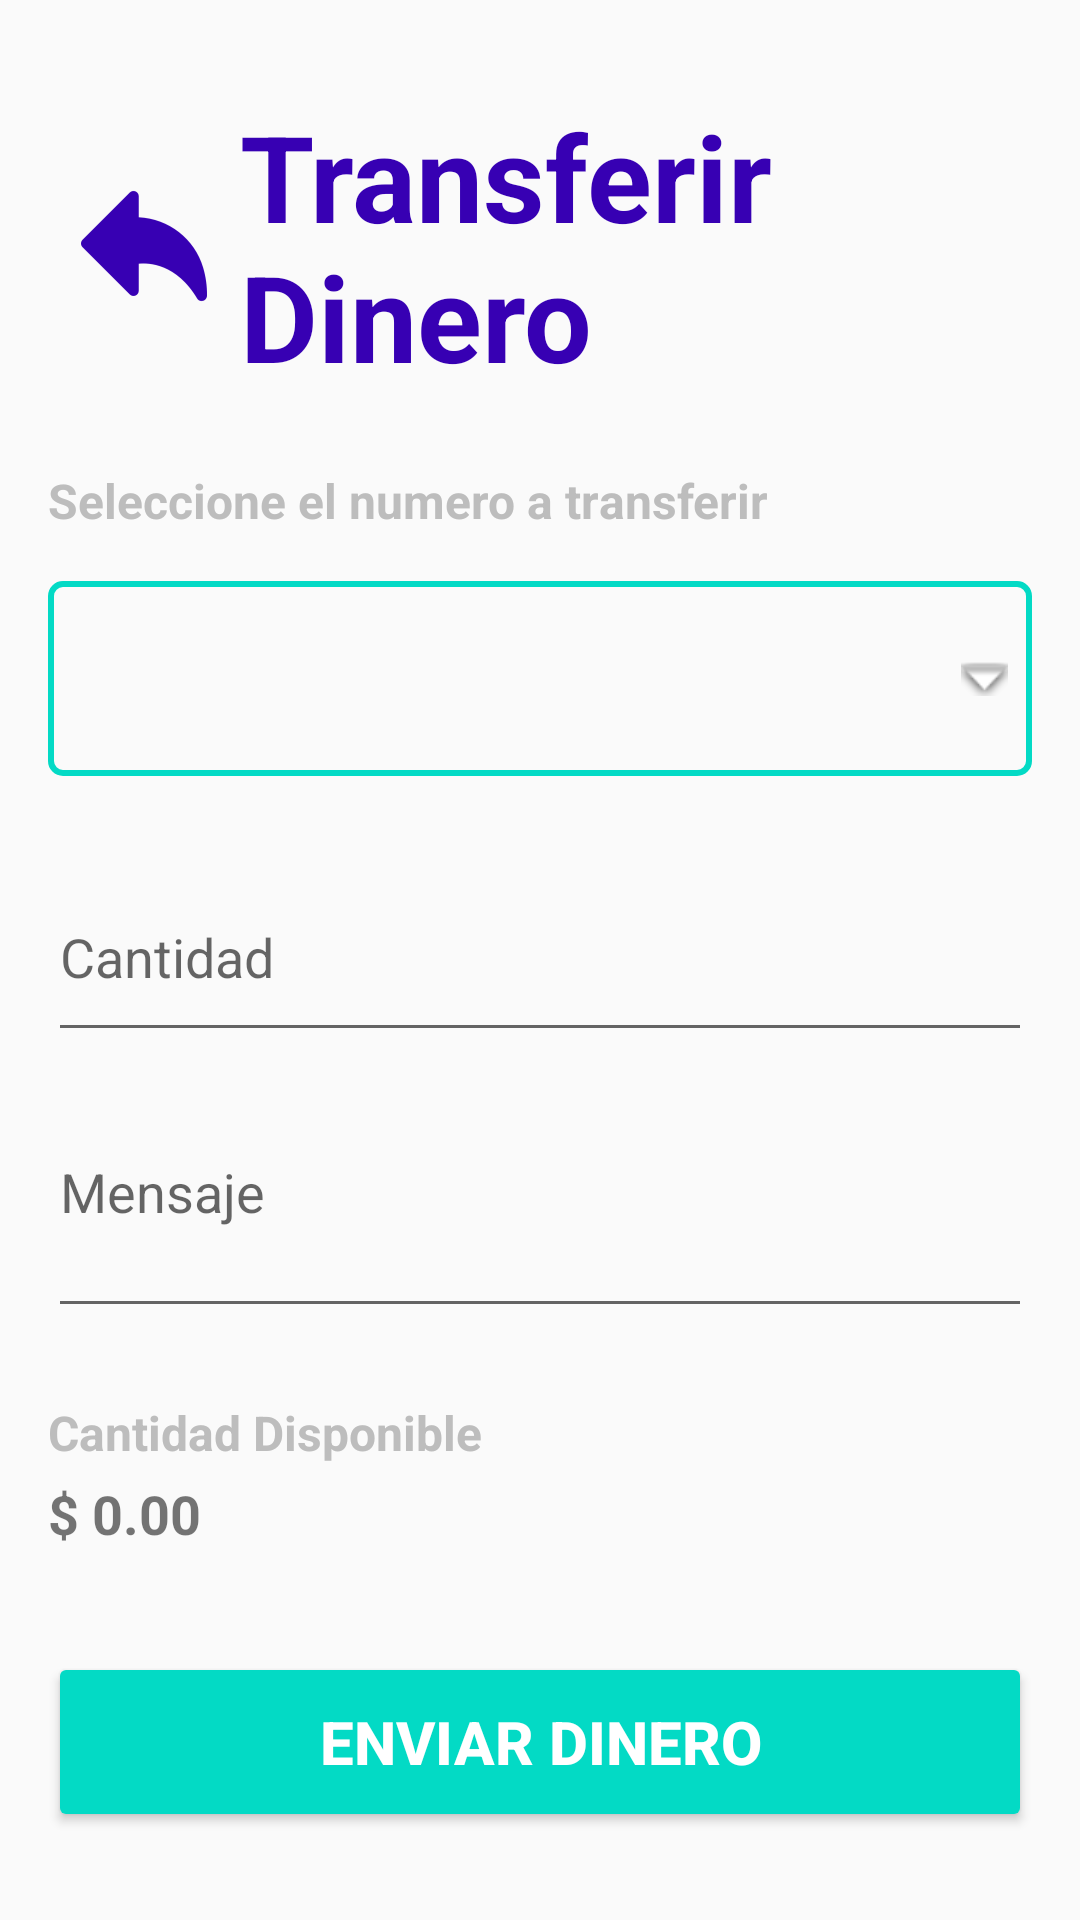

Where icons sit on this 1080 × 1920 app screen, as box=[x1, y1, x2, y2]:
return: box=[81, 191, 207, 301]
